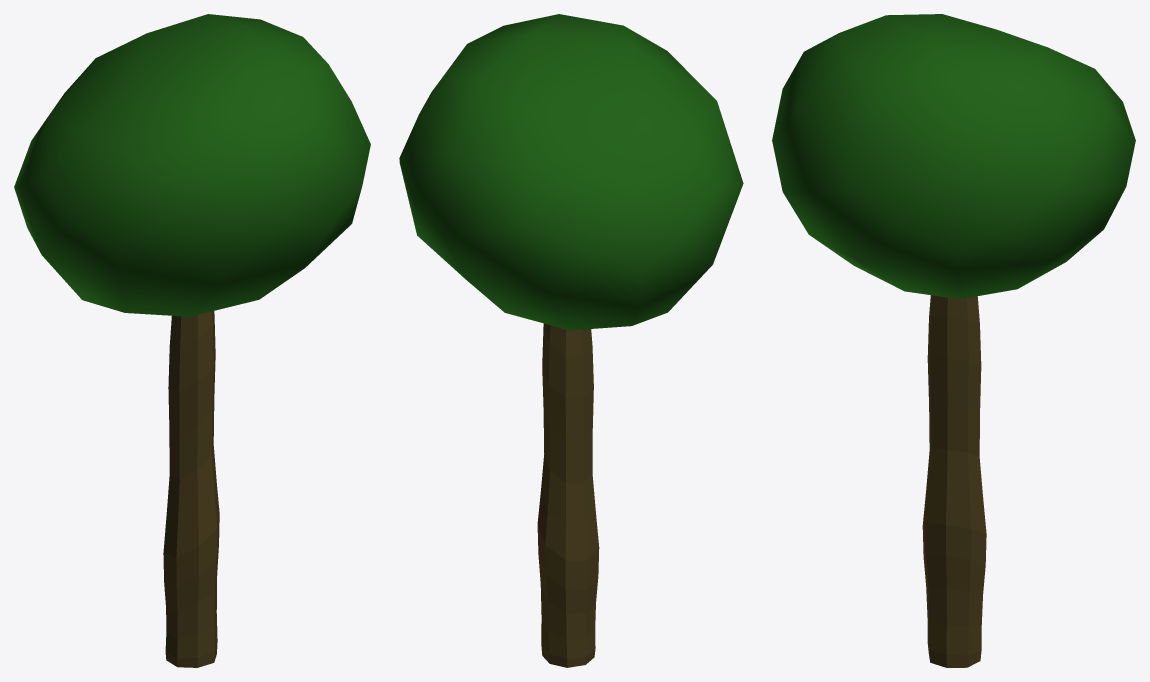
Rendered from tree 1.fbx.
3 renders of one model, left to right at view 1: azimuth 30°, elevation 25°; view 2: azimuth 150°, elevation 25°; view 3: azimuth 270°, elevation 25°, orthographic. The views are drawn at different scales.
Parts seen in each view (by area): view 1: Icosphere.001; view 2: Icosphere.001; view 3: Icosphere.001.
Boxes of the visible parts, <box> form: Icosphere.001: <box>14,14,370,667</box>; Icosphere.001: <box>399,14,743,667</box>; Icosphere.001: <box>772,14,1135,667</box>.
Size of the model in its own units: 6.8 by 13.23 by 6.79.
